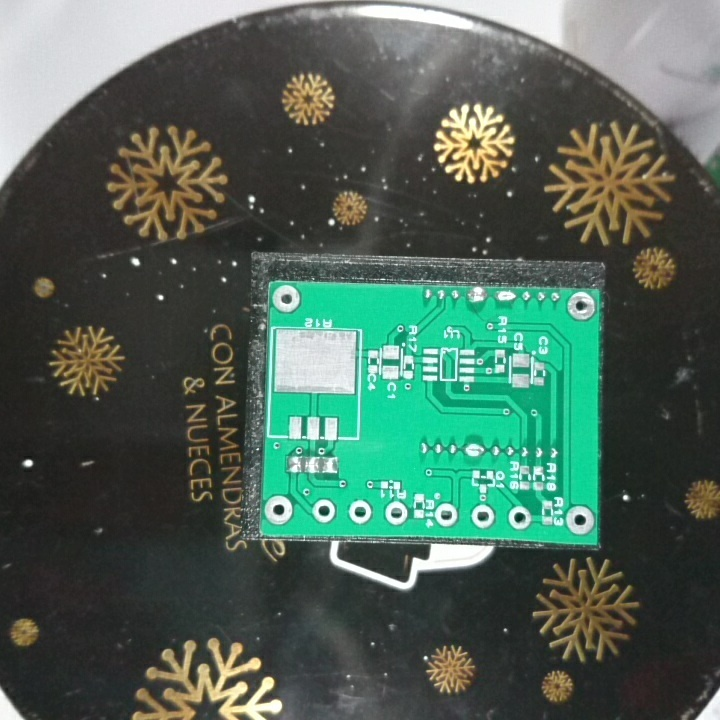F: (564, 503, 597, 536), (270, 283, 302, 315), (263, 494, 294, 526), (565, 290, 595, 322), (382, 497, 409, 528), (345, 497, 373, 526), (311, 495, 338, 523), (434, 499, 459, 529), (505, 504, 532, 531), (470, 502, 495, 530)
P: (460, 440, 487, 459), (465, 286, 488, 306), (493, 287, 517, 306)
